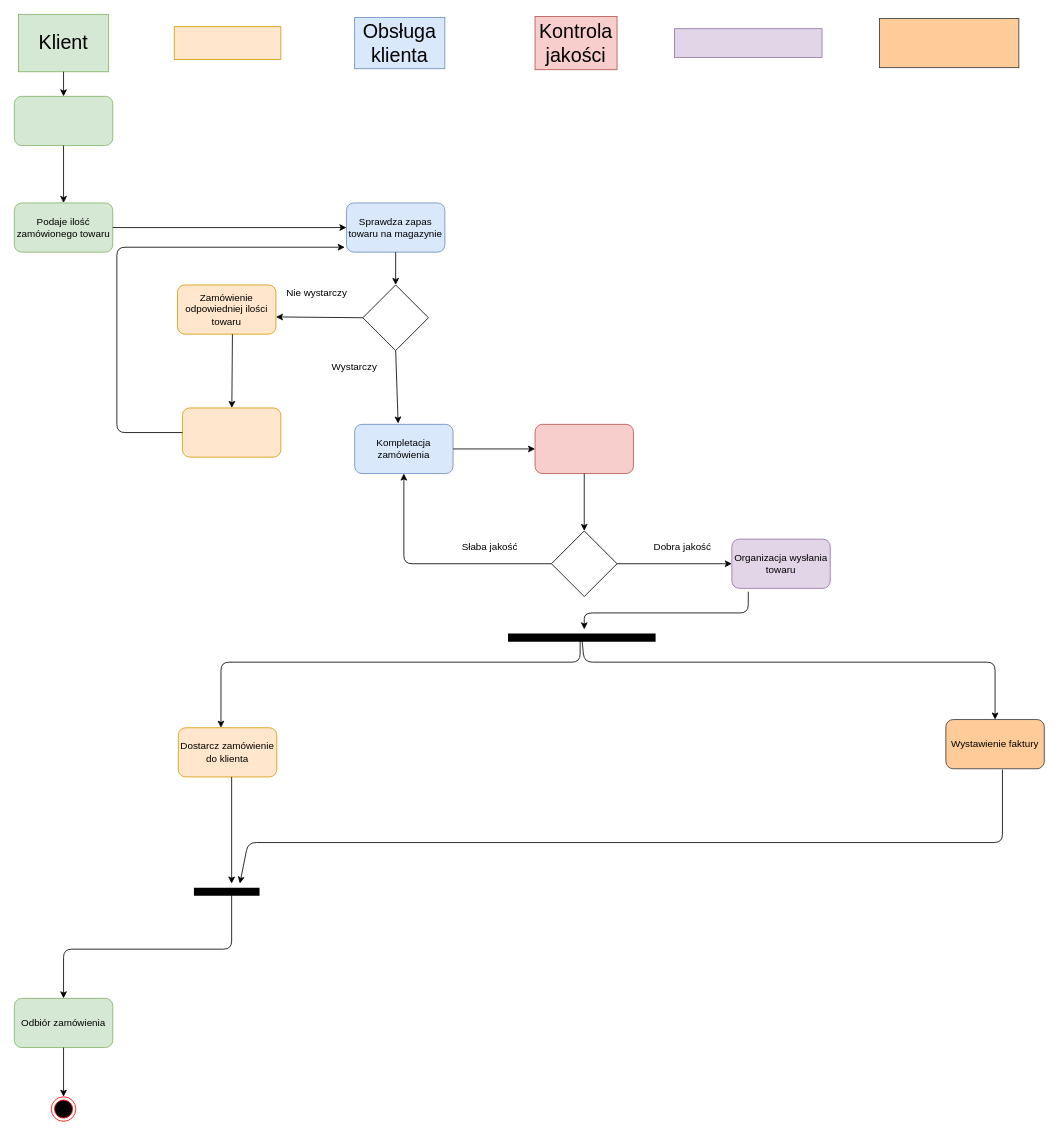
This 1059x1136 diagram has some shape labels left out. Each missing label, with the box of its shape:
Administracja: (879, 18, 1019, 68)
Chce złożyć zamówienie: (14, 96, 113, 146)
Przywiezienie towaru: (182, 407, 281, 457)
Sprawdzenie jakości towaru: (534, 424, 633, 474)
Transport: (173, 26, 281, 59)
Wysyłka: (674, 28, 822, 57)
